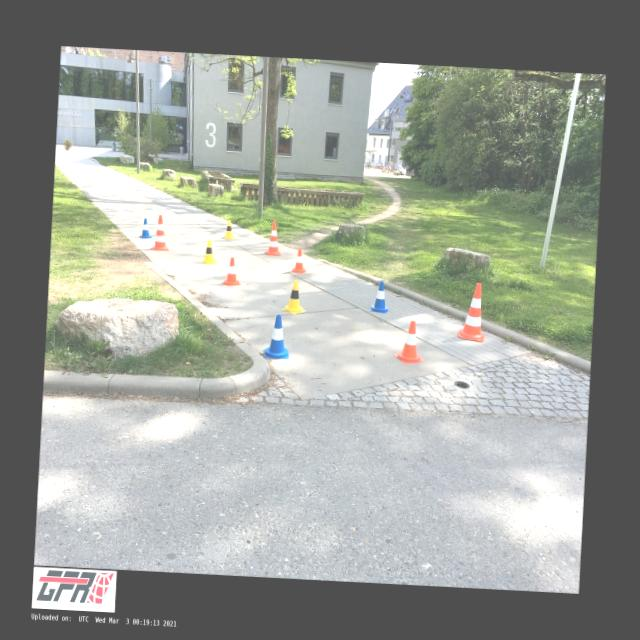blue_cone: (264, 314, 292, 360), (369, 280, 391, 314), (138, 218, 154, 239)
large_orange_cone: (458, 282, 487, 342), (151, 214, 171, 252), (264, 222, 282, 256)
orange_cone: (393, 320, 426, 364), (221, 257, 243, 287), (291, 248, 308, 274)
yellow_cone: (283, 279, 307, 315), (201, 239, 218, 265), (223, 220, 236, 240)
